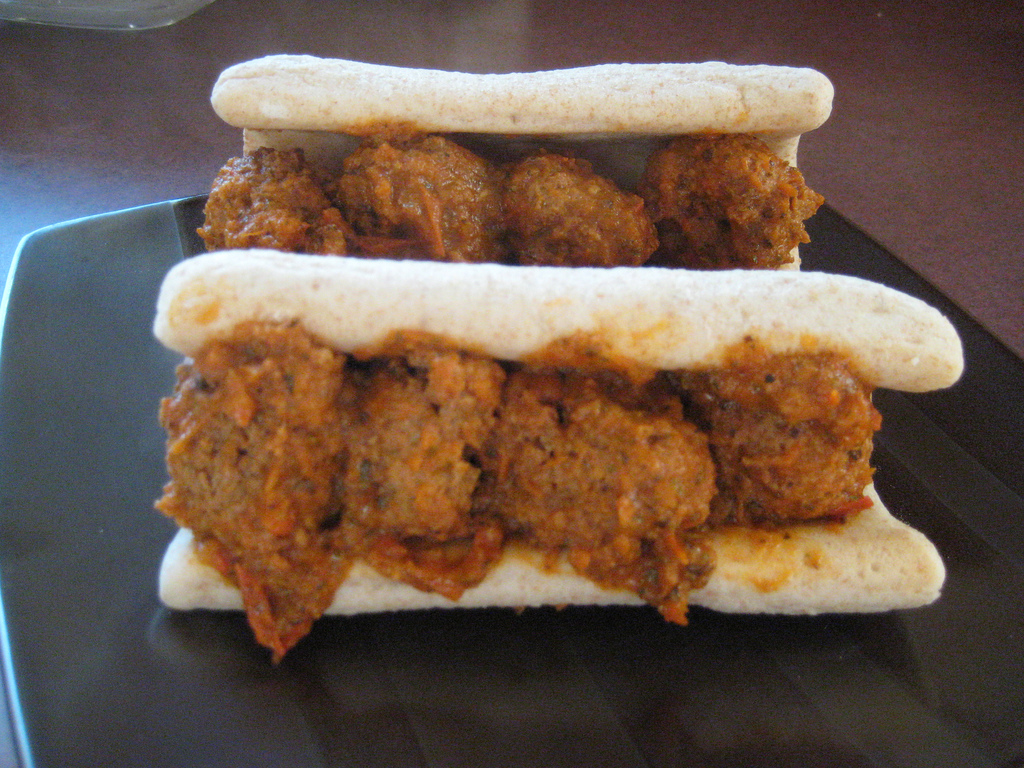meatballs: (163, 343, 904, 527)
slice of bread: (175, 243, 968, 371)
